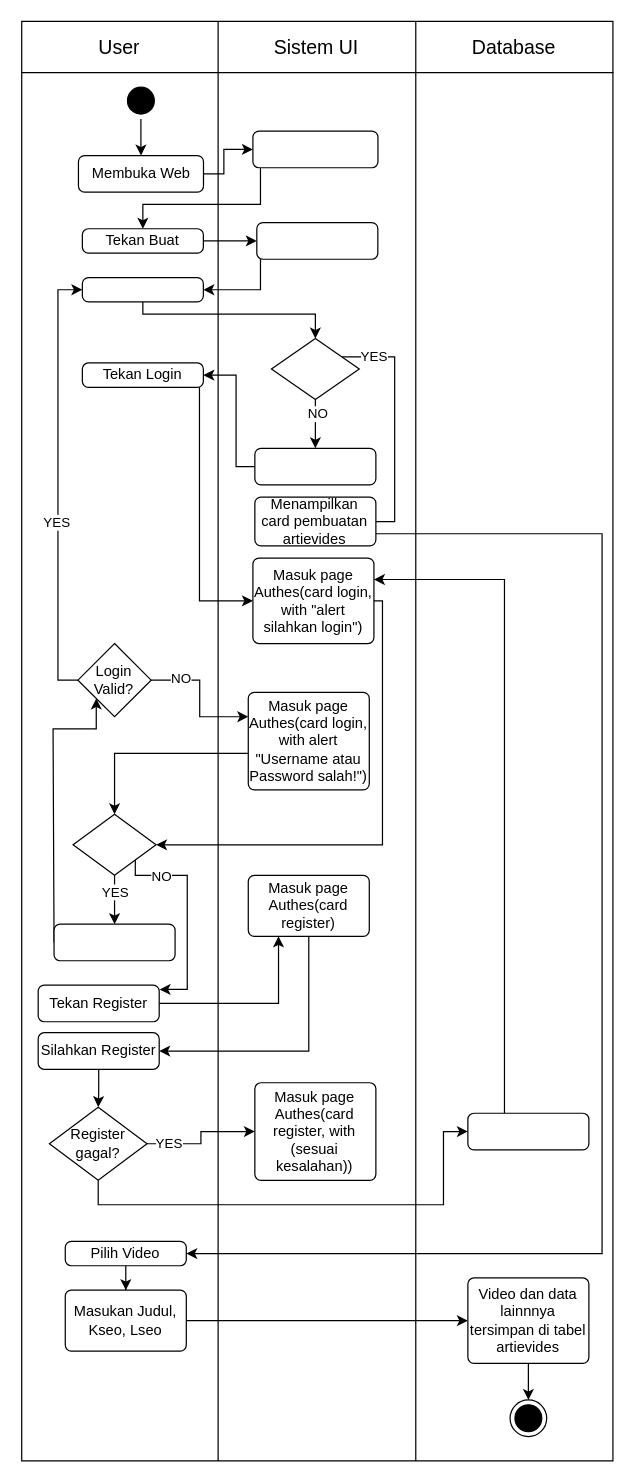
This 634x1482 diagram has some shape labels left out. The shapes that lost their labels are listed below. From the top down, each one's box as (x1, y1, x2, y2) in pixels, then its label:
(252, 130, 378, 168): Menampilkan page Index
(256, 221, 378, 259): Menampilkan card pilihan
(81, 276, 203, 302): Tekan Artievides
(270, 337, 359, 400): Sudah Login?
(254, 447, 376, 485): Menampilkan alert harus login
(72, 813, 156, 875): Punya Akun?
(53, 923, 175, 961): Silahkan Login
(467, 1112, 589, 1150): Masukan data ke tabel akun
